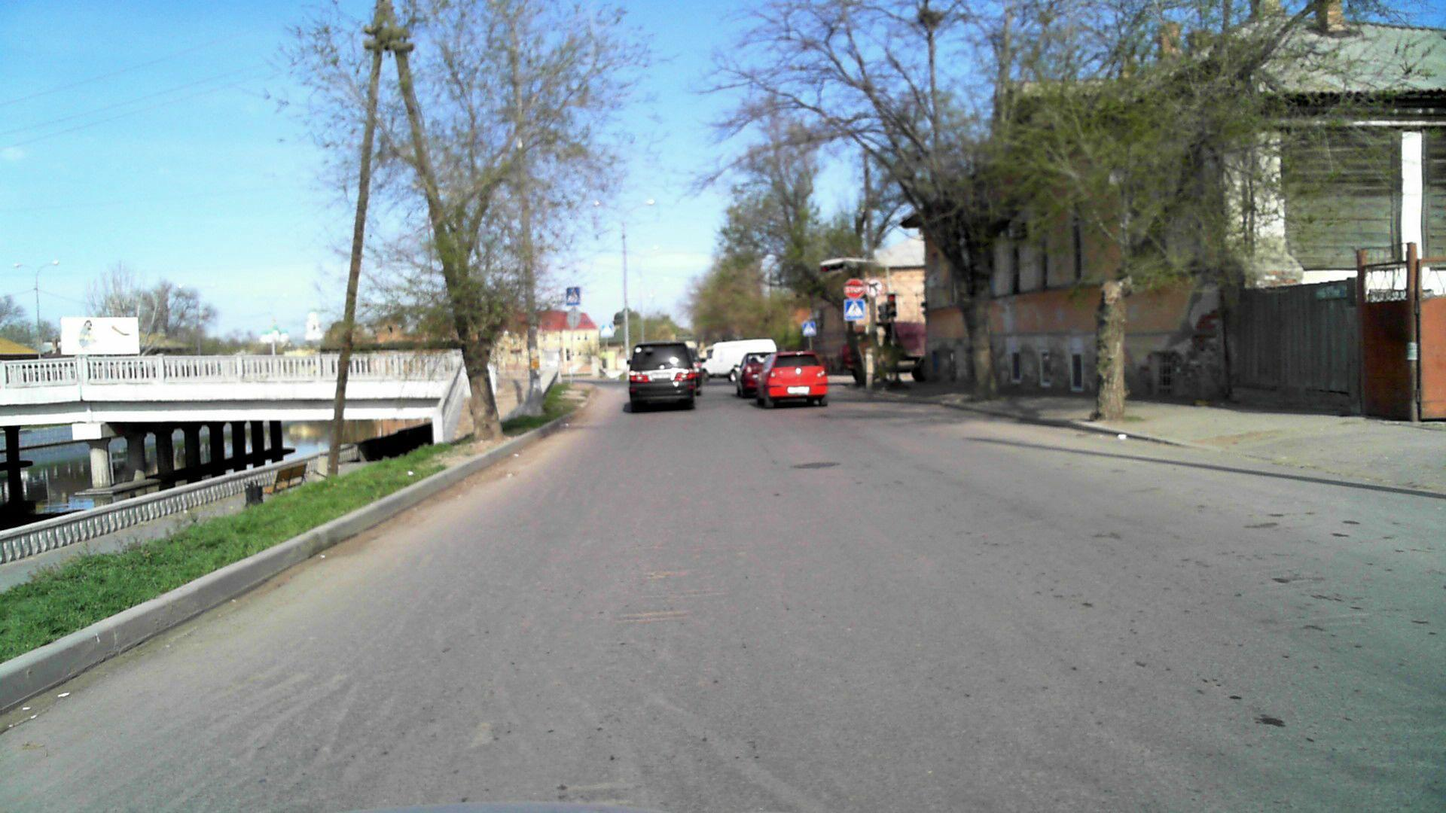road_sign: (844, 299, 865, 321), (843, 279, 865, 298), (864, 277, 883, 297), (566, 286, 581, 306)
traffic light: (887, 293, 897, 318)
